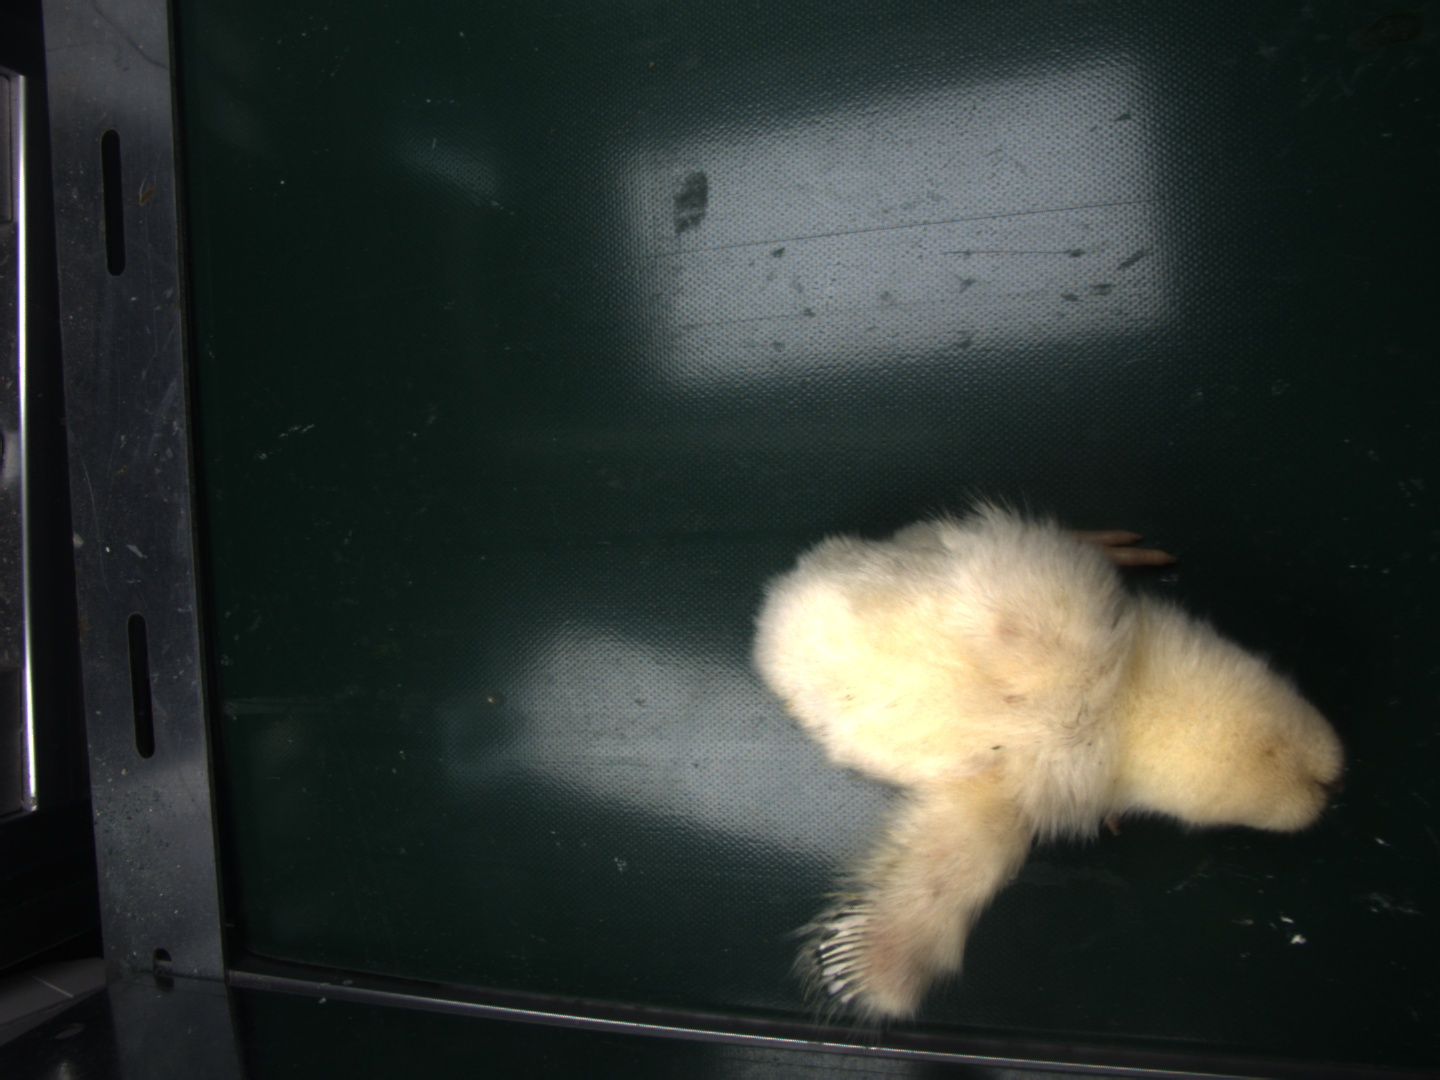male: (816, 905, 872, 1002)
